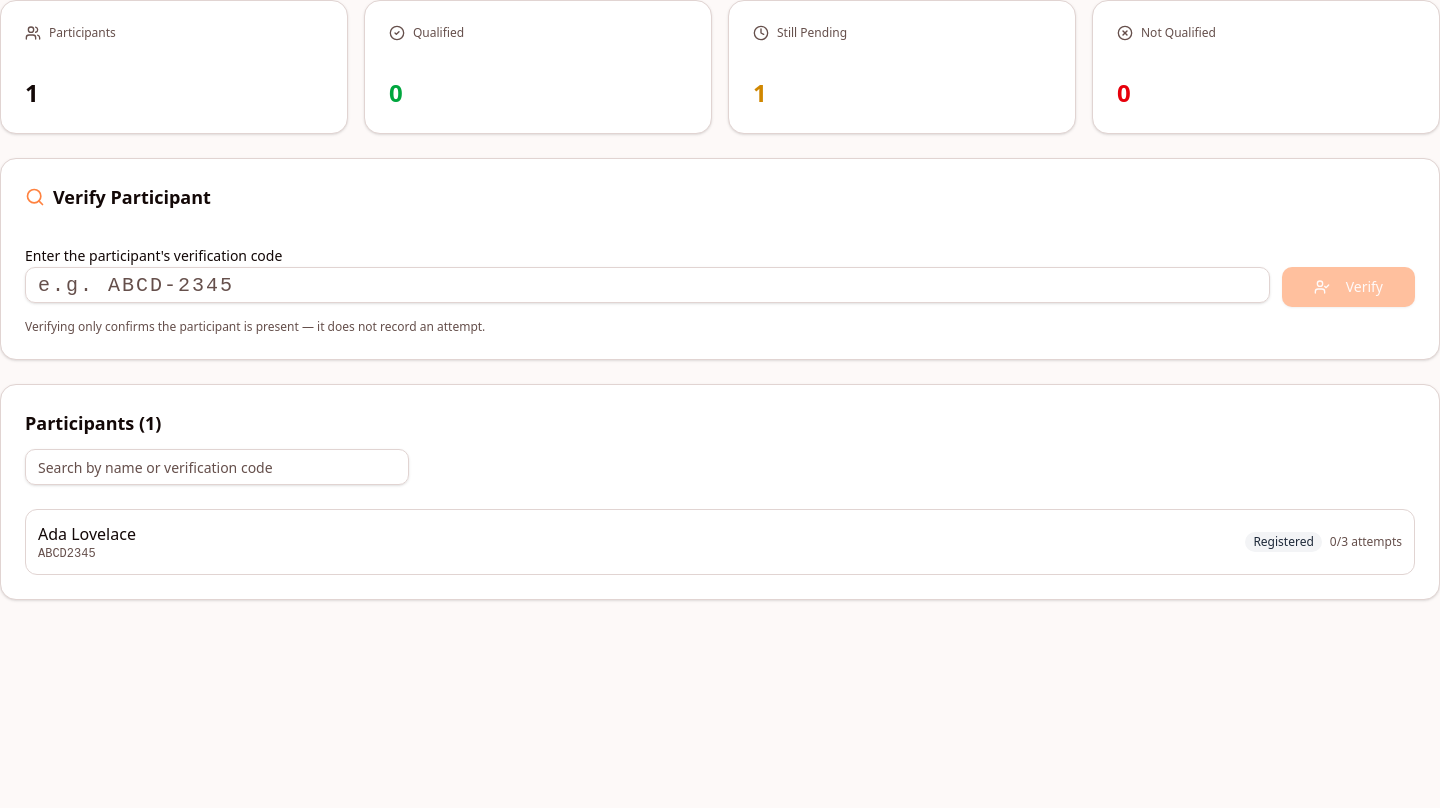
Test: T-REM-3: ParticipantManager remove/ban › bans on confirmation and shows success
Click the button "Ada Lovelace ABCD2345 Registered 0/3 attempts": [87, 534] box [25,509,1415,575]
(page scrolled)
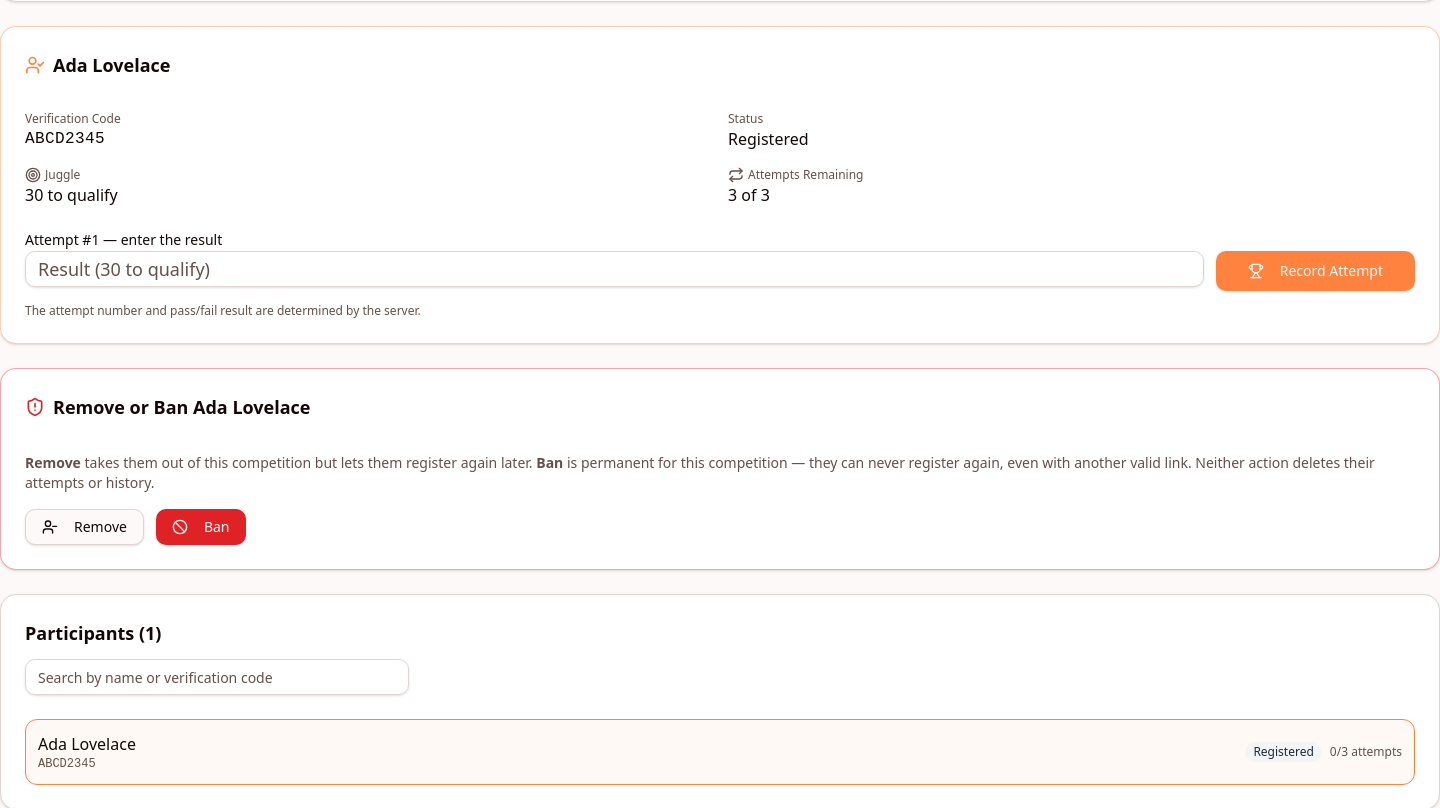
Click the button "Ban": [201, 527] box [156,509,246,545]
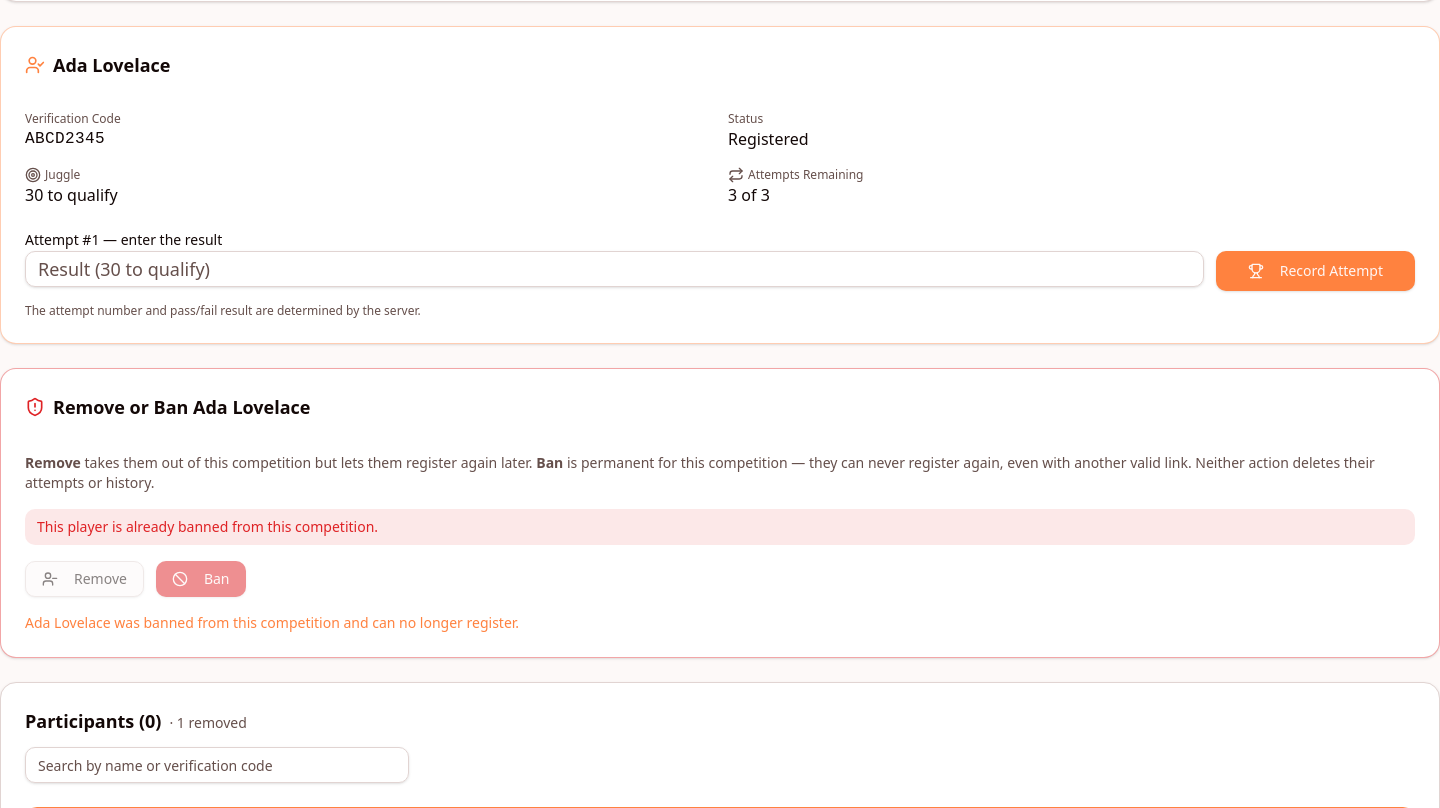
Now the text "was banned from this competition" is shown, box [25,613,519,632]
